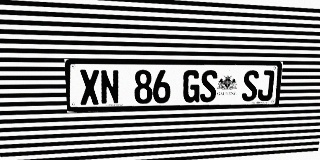6: (153, 70, 171, 103)
8: (134, 70, 153, 104)
G: (183, 70, 201, 103)
J: (257, 70, 275, 101)
N: (100, 70, 119, 105)
S: (200, 70, 218, 102), (241, 70, 259, 101)
X: (79, 69, 100, 105)
